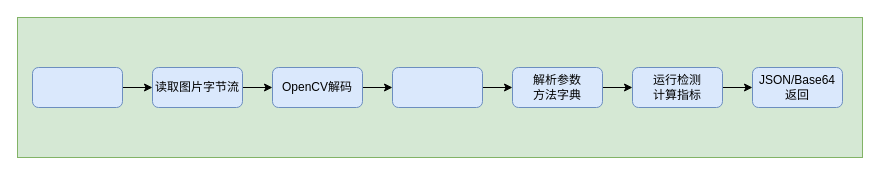
Some shapes in this 880 by 175 pixel diagram are drawn without their labels. Each missing label, with the centre of its shape:
接收请求: pixel 77 87
灰度化 RGB转换: pixel 437 87
